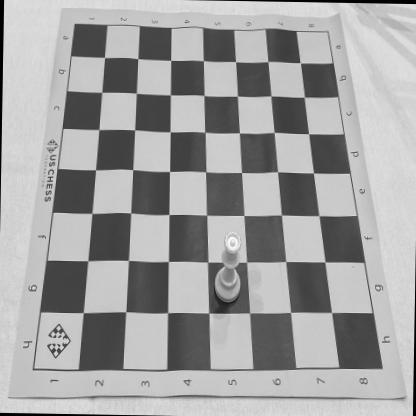queen: (214, 230, 242, 304)
